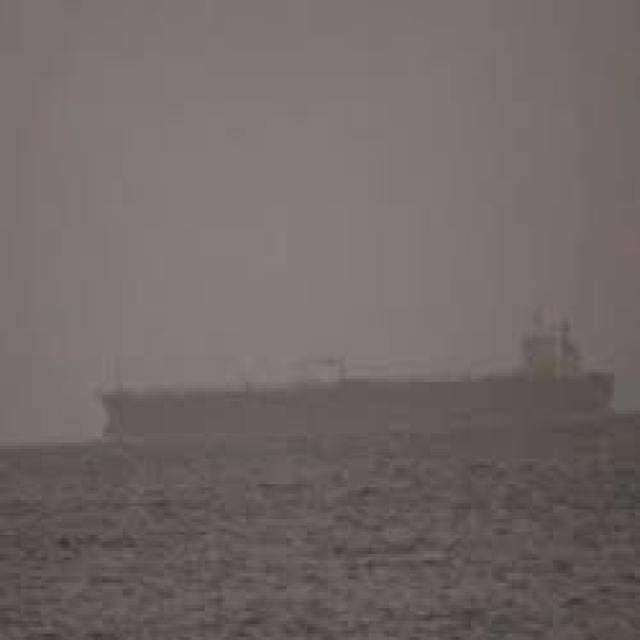cargoship: (96, 310, 614, 446)
